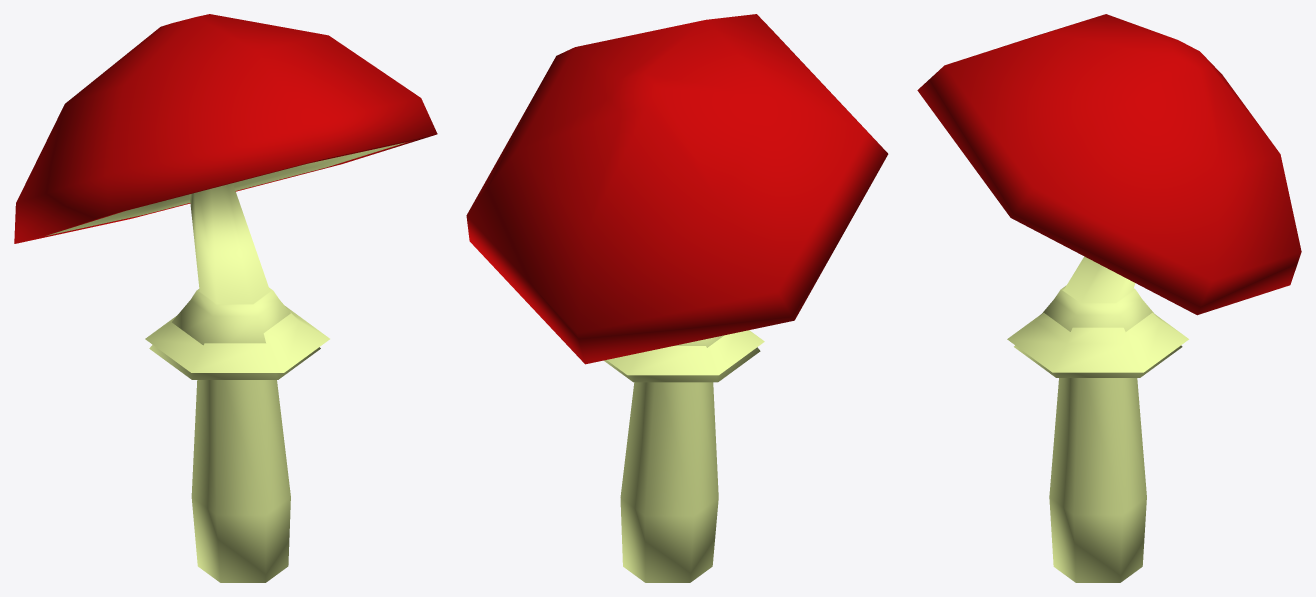
The model's file is fungus red big.obj.
3 renders of one model, left to right at view 1: azimuth 30°, elevation 25°; view 2: azimuth 150°, elevation 25°; view 3: azimuth 270°, elevation 25°, orthographic.
Parts seen in each view (by area): view 1: fungo.039, fungo.049; view 2: fungo.039, fungo.049; view 3: fungo.039, fungo.049.
Boxes of the visible parts, x1,y1,x2,y2 form: fungo.039: (14,14,437,582); fungo.049: (145,306,329,372); fungo.039: (466,14,888,582); fungo.049: (607,330,764,375); fungo.039: (917,14,1301,582); fungo.049: (1007,312,1188,372).
Size of the model in its own units: 1.11 by 1.73 by 1.14.
